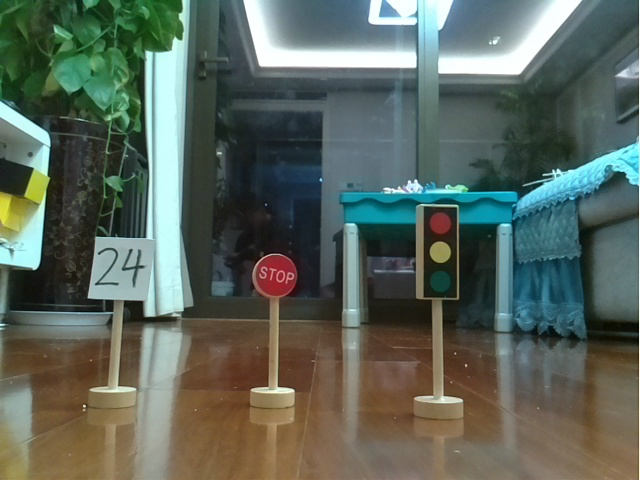Red Traffic Light: (405, 199, 473, 428)
Speed Limit 24: (84, 229, 160, 408)
Stop Sign: (247, 249, 304, 412)
